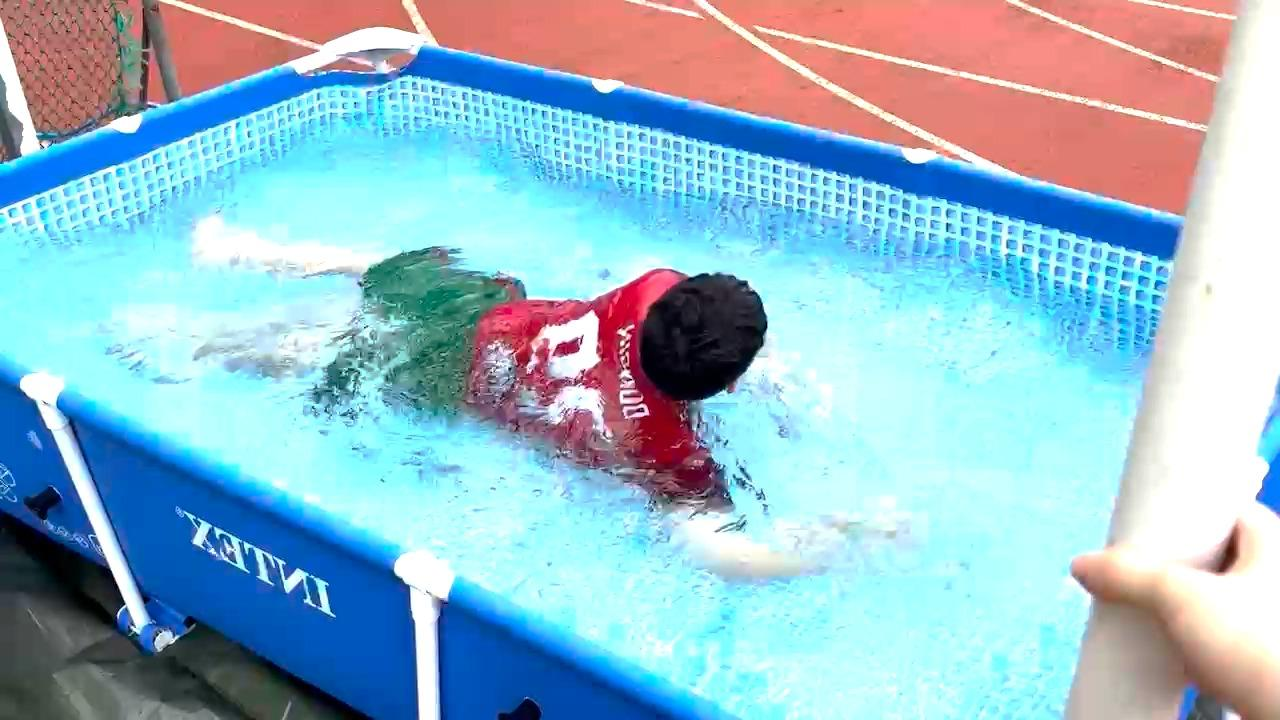Swimming: (114, 159, 836, 593)
